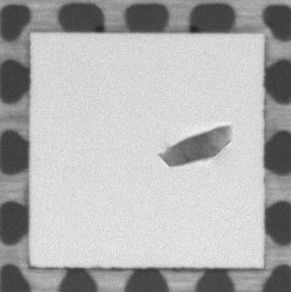DIE_INK: (158, 122, 234, 171)
